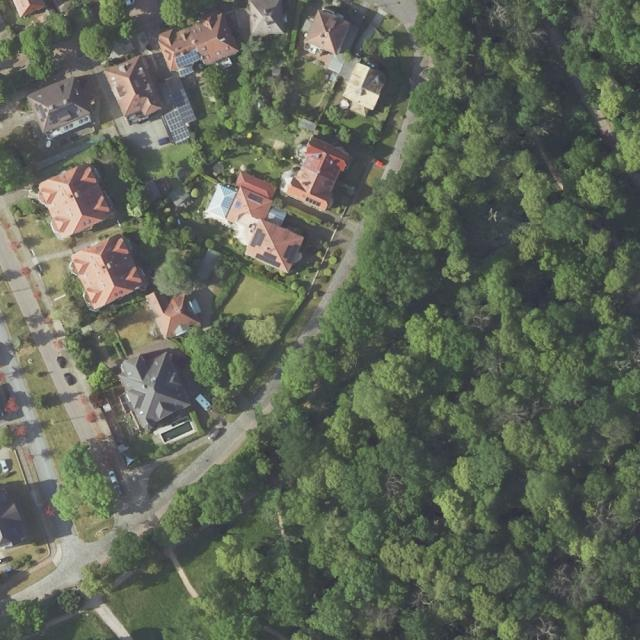PV: (165, 75, 197, 144), (174, 49, 201, 76), (49, 103, 80, 126), (254, 251, 280, 268), (283, 244, 300, 265), (249, 228, 266, 248), (34, 103, 48, 122)
ST: (247, 192, 264, 204), (305, 196, 321, 207)
